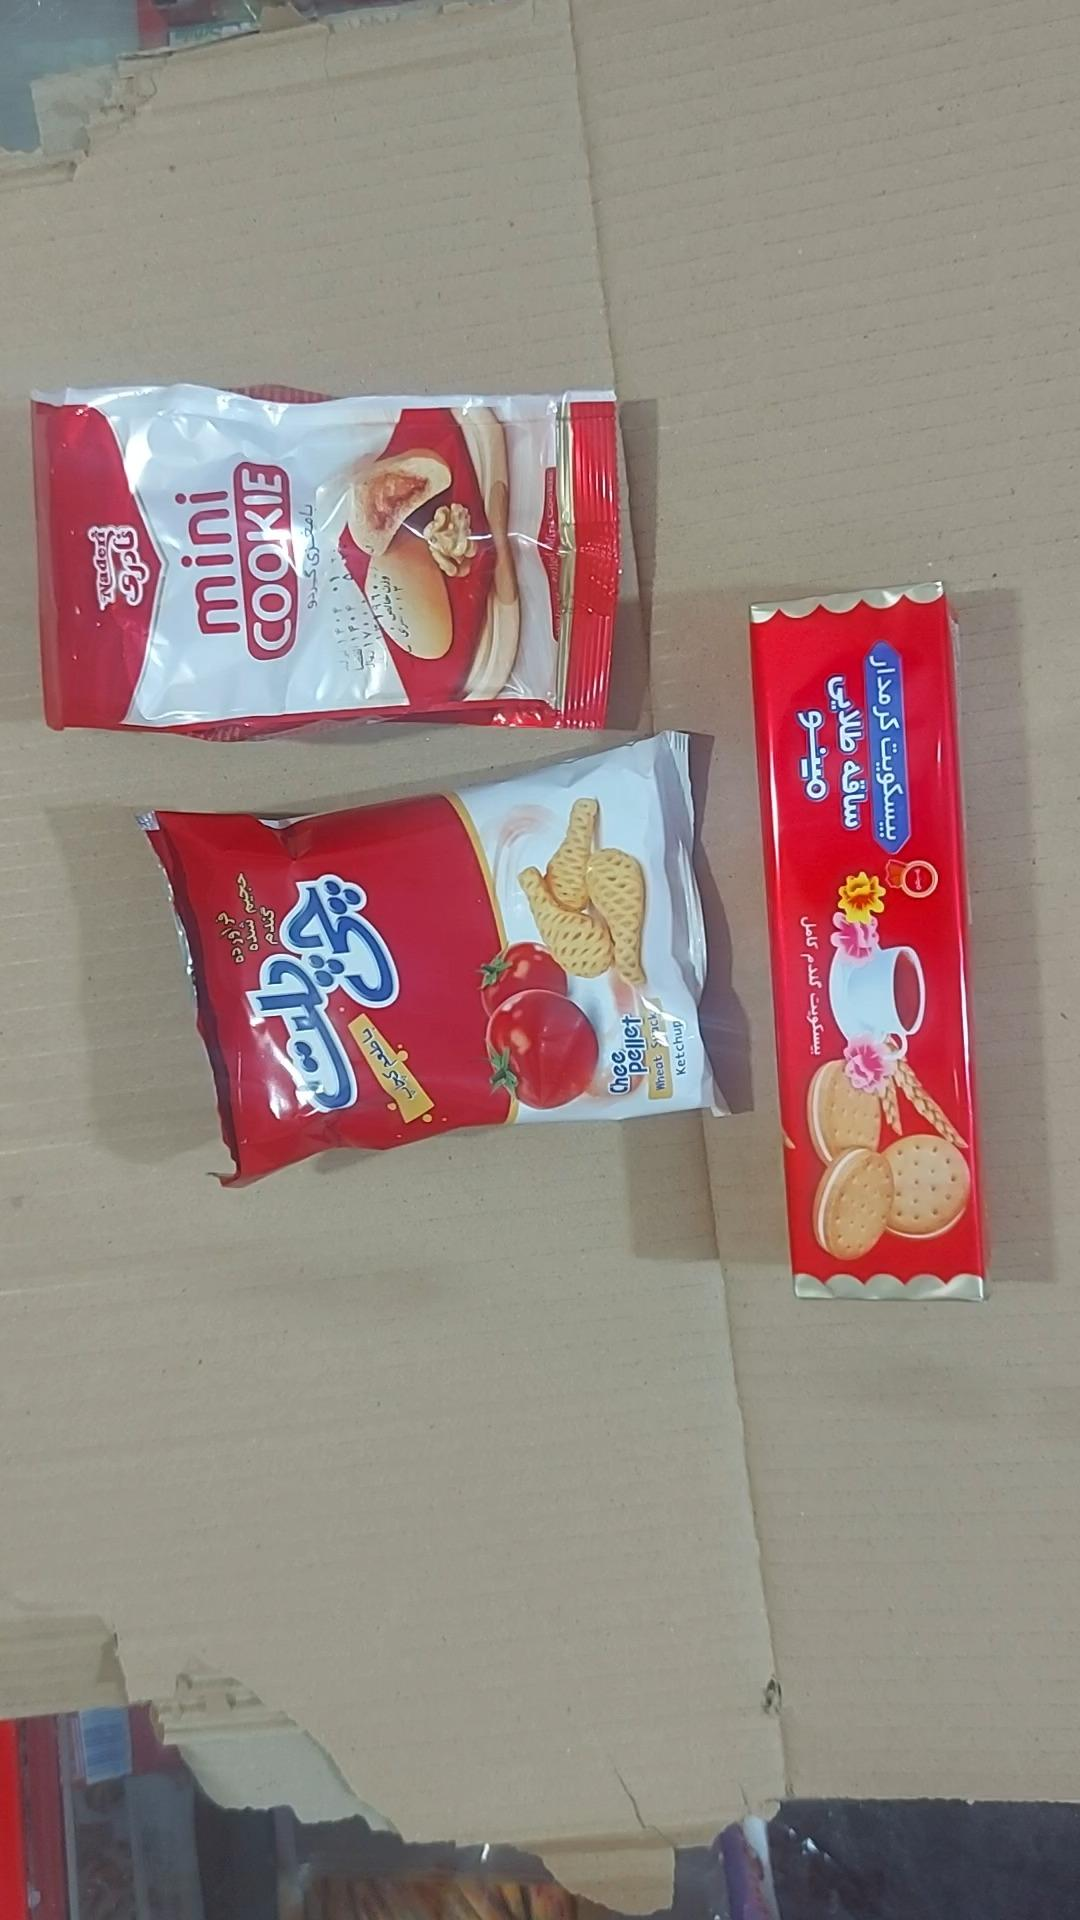Chee pellet ketchup: (140, 733, 723, 1189)
Minoo cream biscuit: (750, 582, 990, 1305)
Naderi mini cookie: (29, 382, 626, 744)
